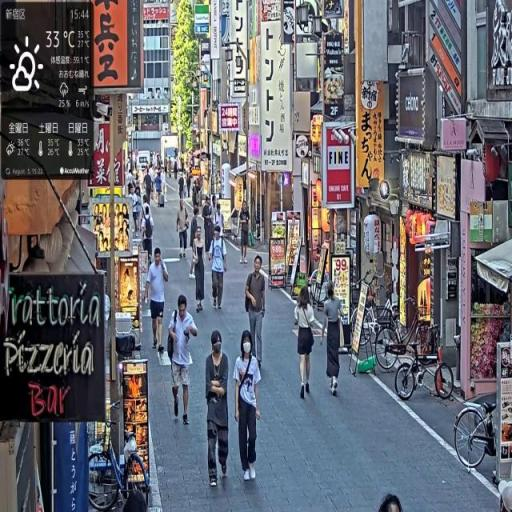person: (234, 332, 263, 483), (168, 294, 200, 427), (205, 329, 231, 488), (294, 281, 319, 401), (244, 254, 268, 377), (322, 284, 346, 400), (146, 247, 171, 353), (209, 224, 230, 312), (191, 227, 208, 314), (239, 197, 254, 267), (177, 199, 191, 262)
